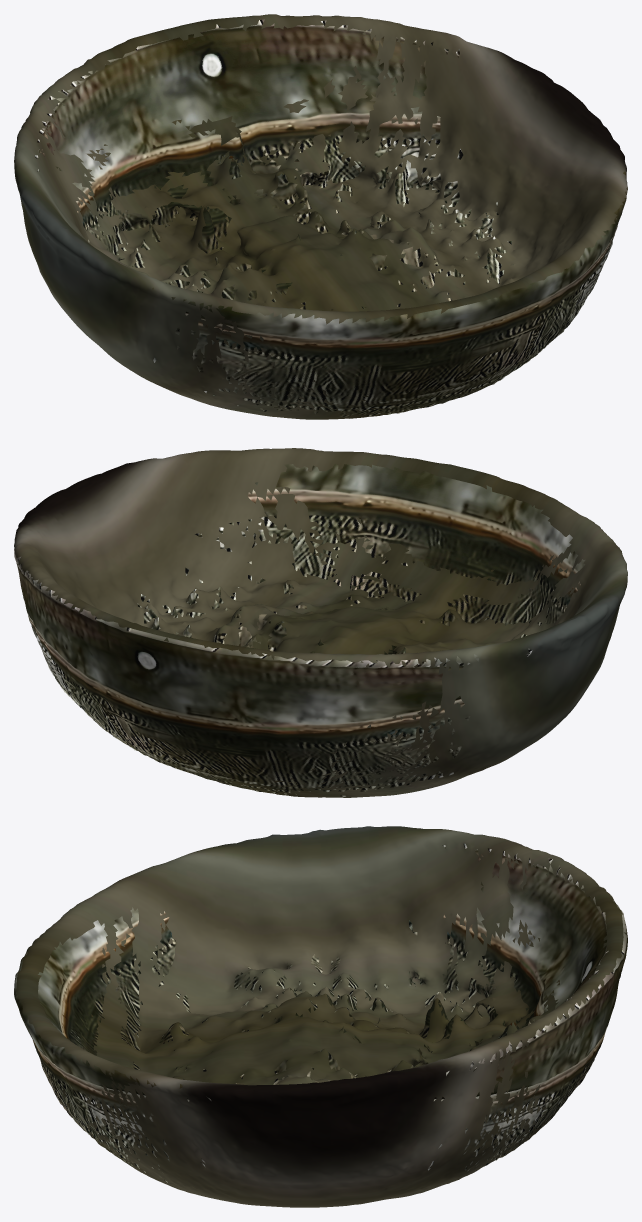
File: kfl-2254.glb
3 renders of one model, top to bottom at view 1: azimuth 30°, elevation 25°; view 2: azimuth 150°, elevation 25°; view 3: azimuth 270°, elevation 25°, orthographic.
Parts seen in each view (by area): view 1: kfl-2254; view 2: kfl-2254; view 3: kfl-2254.
Boxes of the visible parts, x1,y1,x2,y2 form: kfl-2254: [14, 14, 627, 419]; kfl-2254: [14, 448, 627, 797]; kfl-2254: [14, 826, 627, 1207].
Bounding box in the file's own units: 0.9899 × 0.4093 × 0.9883.
4 materials, 4 textured.
